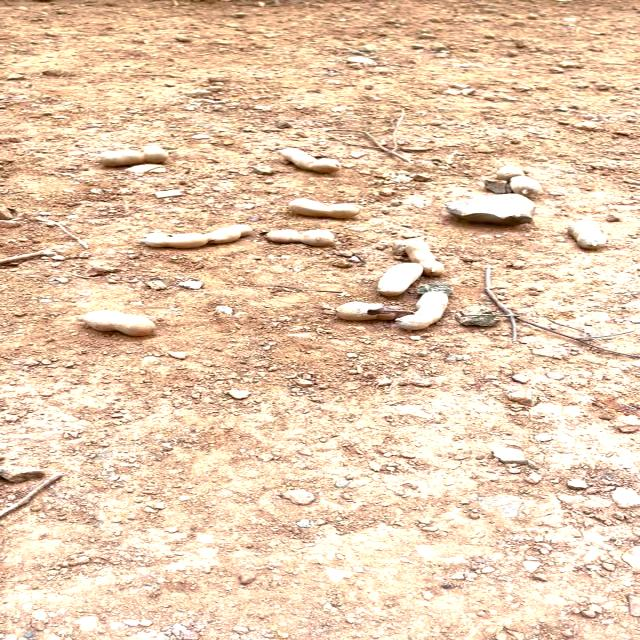tamarind: (147, 219, 254, 250), (397, 288, 451, 334), (75, 310, 159, 338), (401, 236, 452, 276), (335, 298, 416, 322), (375, 261, 422, 300), (563, 218, 613, 252), (279, 148, 344, 174), (265, 228, 345, 249), (496, 166, 546, 198), (287, 199, 363, 220), (98, 146, 170, 168)
